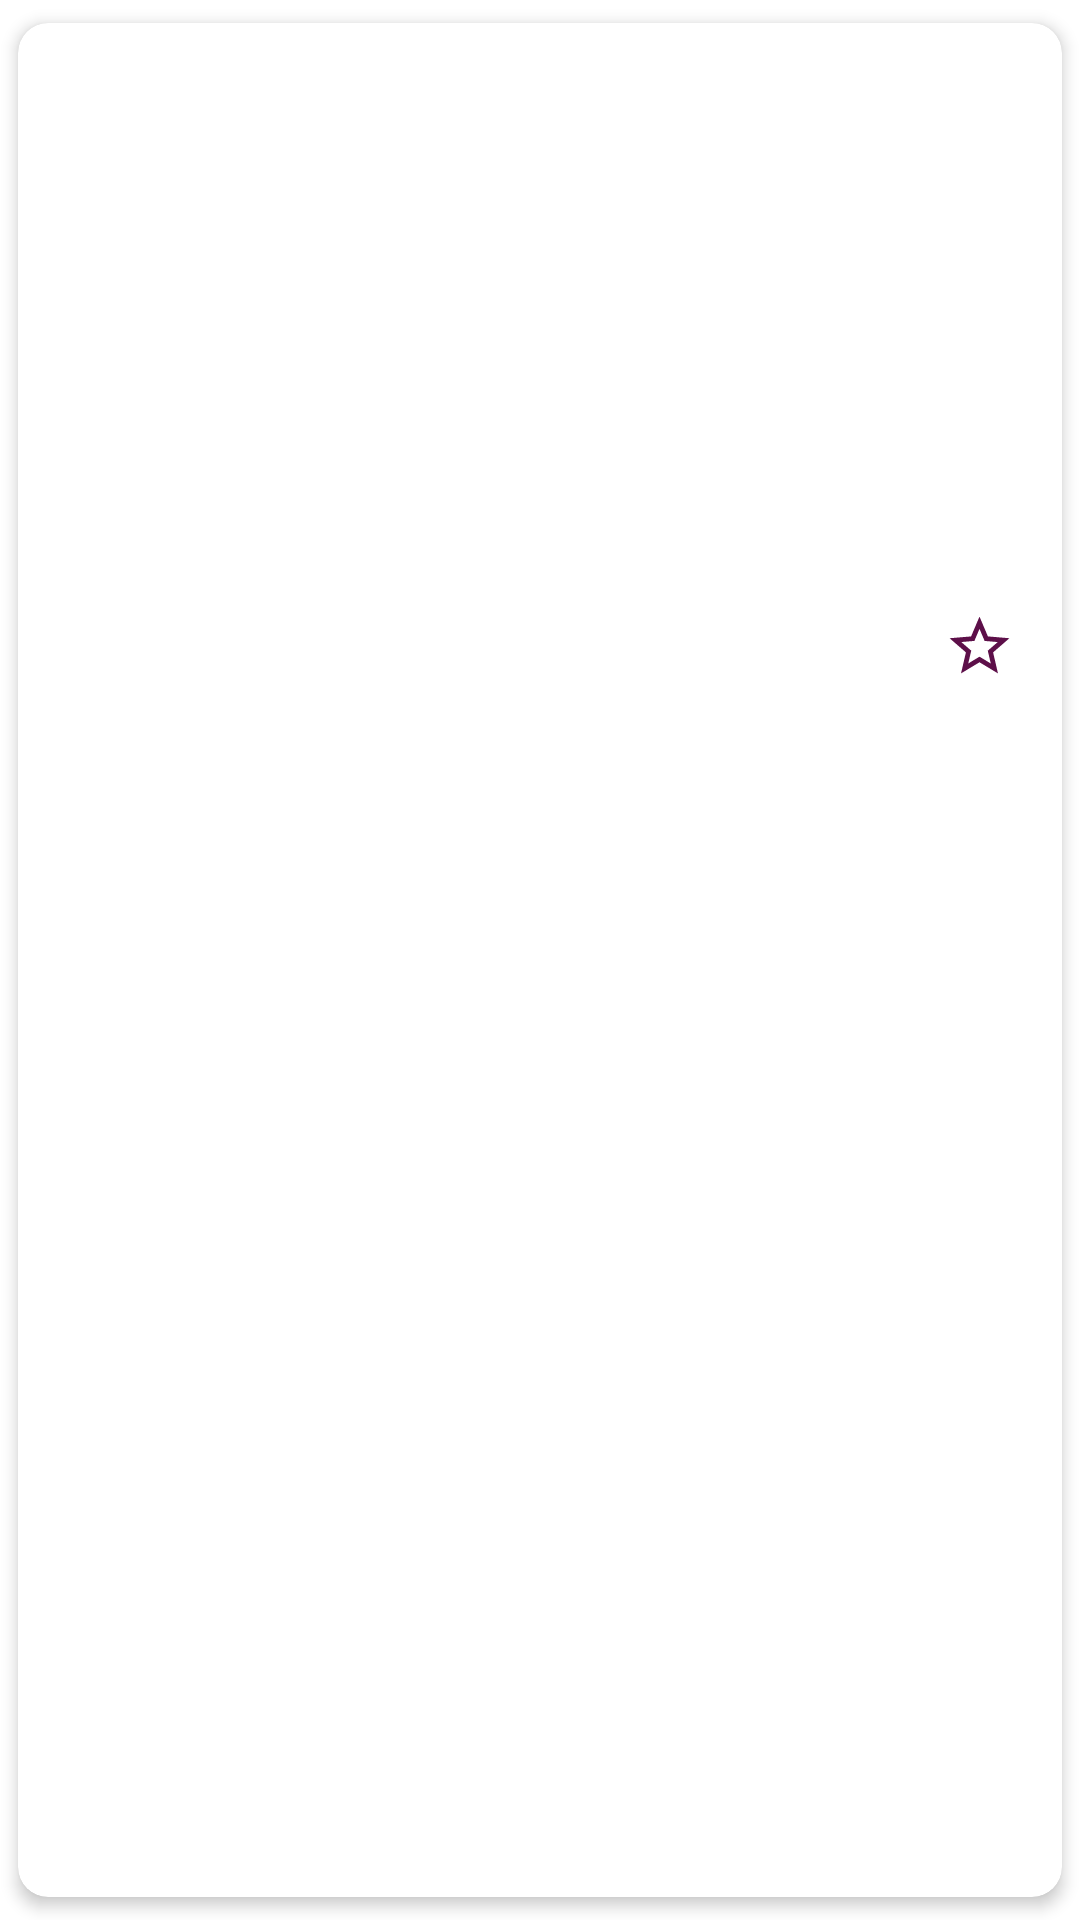

Where to tap for icons on this 1080 × 1920 app screen, as (x,y):
add favorite: (979,645)
